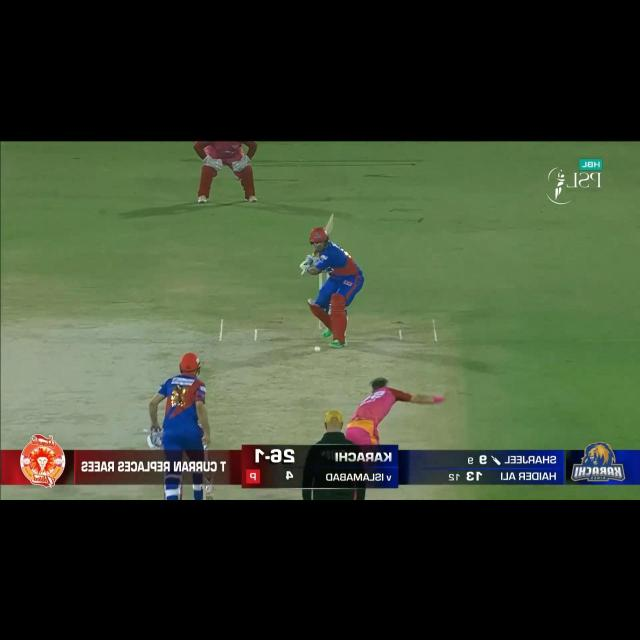bat: (288, 212, 344, 290), (202, 484, 217, 502)
toe: (326, 212, 338, 232)
